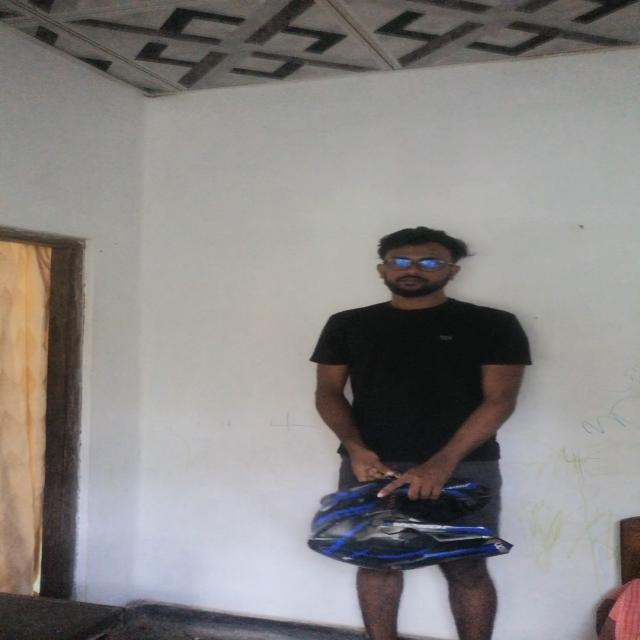Person: (286, 228, 547, 624)
